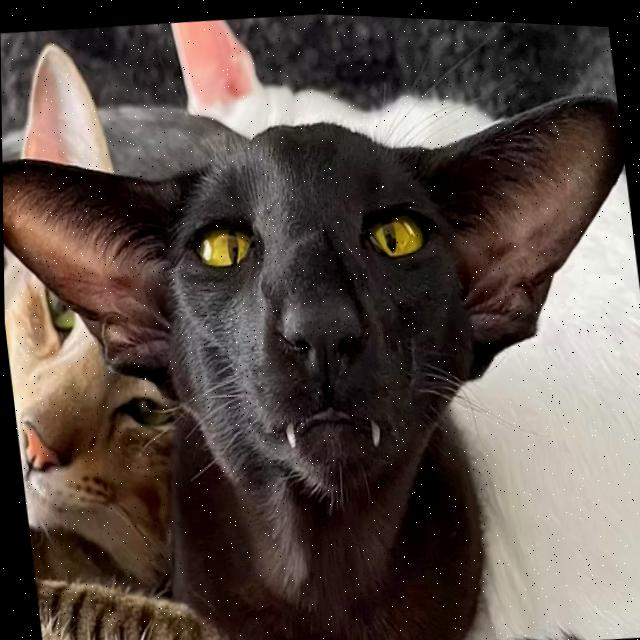Oriental: (1, 57, 640, 640)
